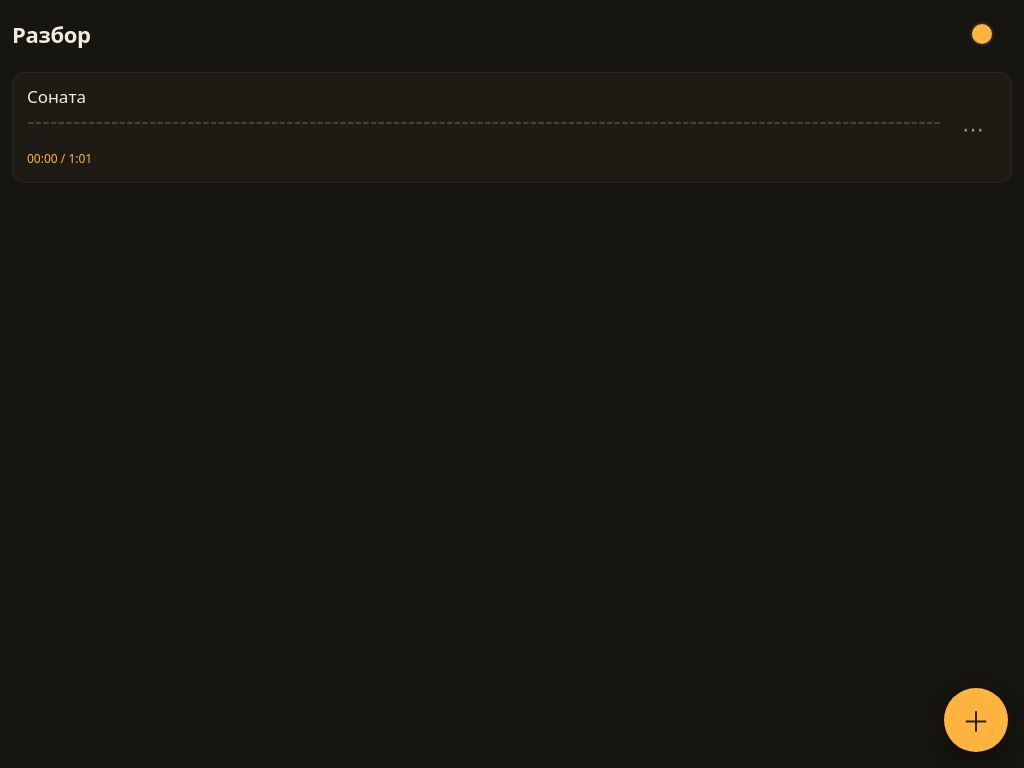
Library › deletes through the sheet, not through a native confirm()
Click the button named "действия" at (973, 128), box [949,104,997,152]
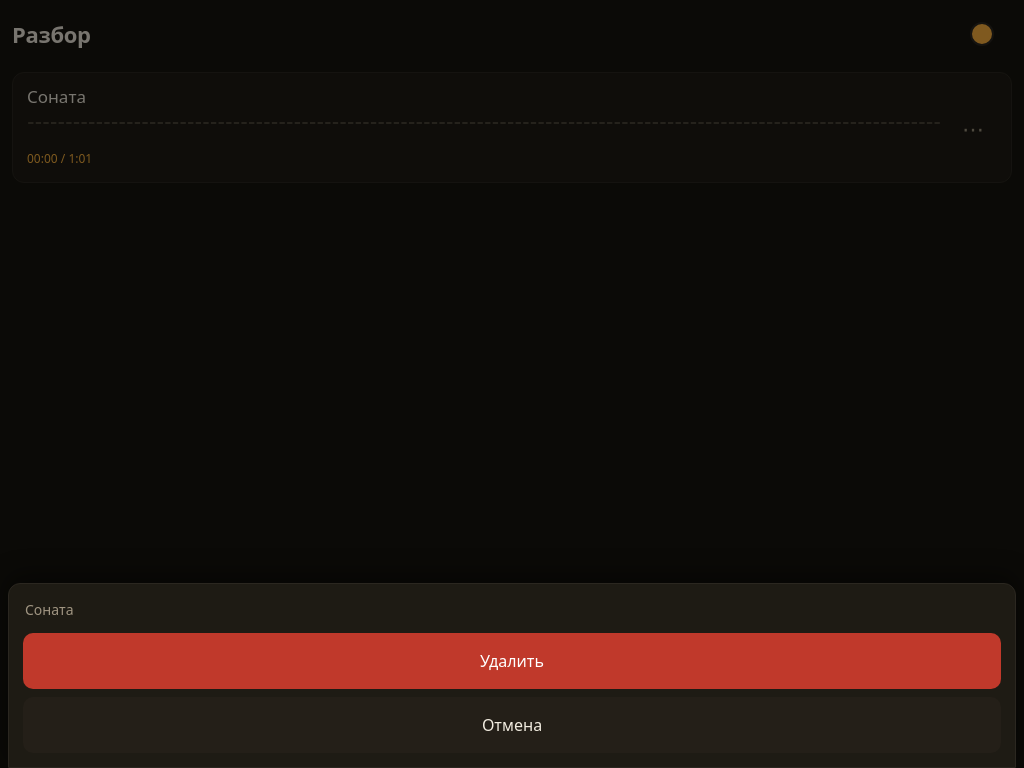
Click the button "Удалить" at (512, 661), box [23,633,1001,689]
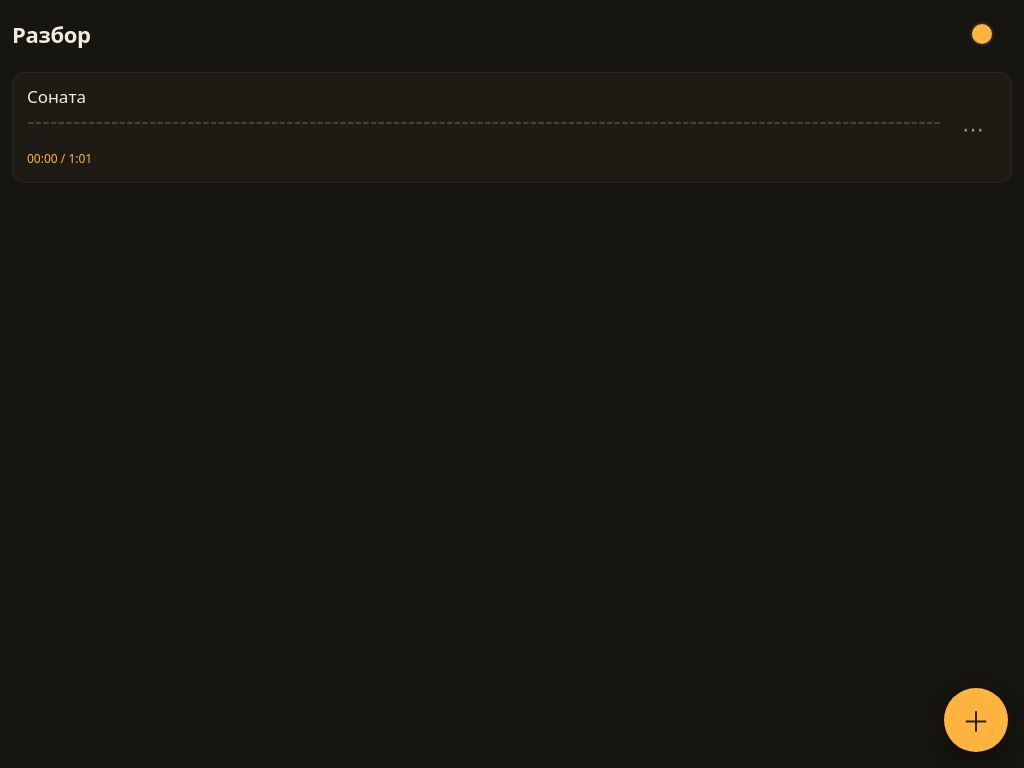
Expected: the dialog is gone
